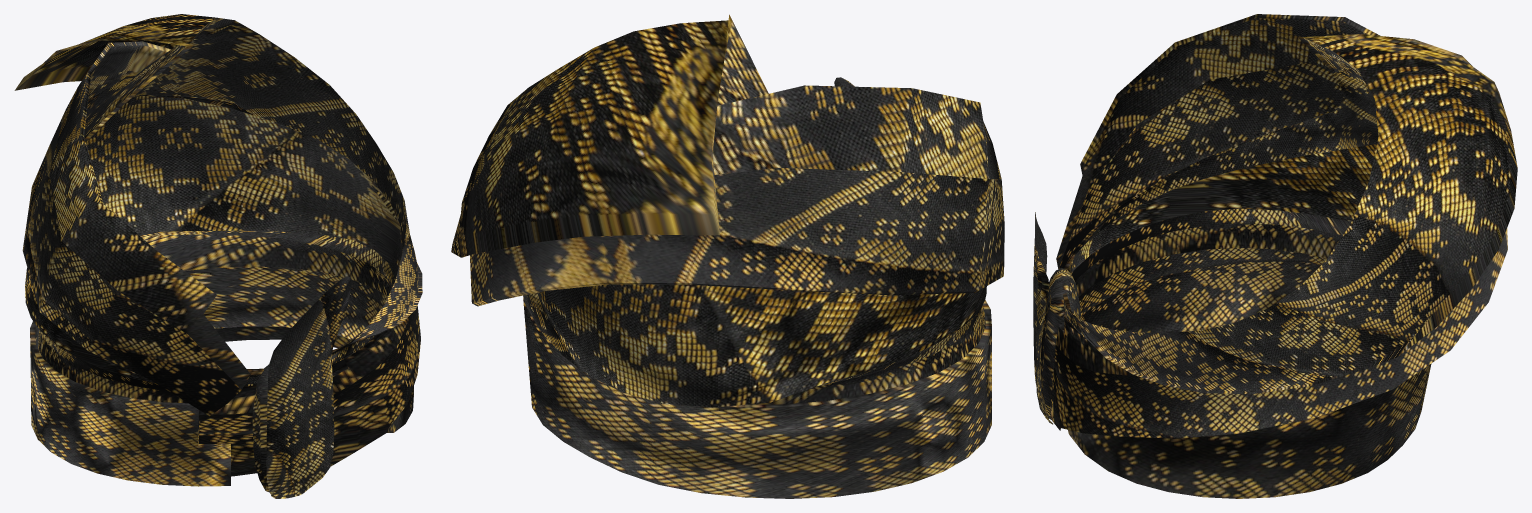
File: ZAMRUD-01_Tanjak Seri Megah.fbx
3 views of the same model, side by side, from view 1: azimuth 30°, elevation 25°; view 2: azimuth 150°, elevation 25°; view 3: azimuth 270°, elevation 25° (orthographic). The views are drawn at different scales.
Visible parts, largest first — view 1: ZAMRUD-01_Tanjak Seri Megah; view 2: ZAMRUD-01_Tanjak Seri Megah; view 3: ZAMRUD-01_Tanjak Seri Megah.
Part boxes in pixels (x1,y1,x2,y2): ZAMRUD-01_Tanjak Seri Megah: [14, 14, 422, 498]; ZAMRUD-01_Tanjak Seri Megah: [451, 14, 1004, 498]; ZAMRUD-01_Tanjak Seri Megah: [1033, 14, 1517, 498].
Size of the model in its own units: 34.32 by 31.48 by 35.49.
